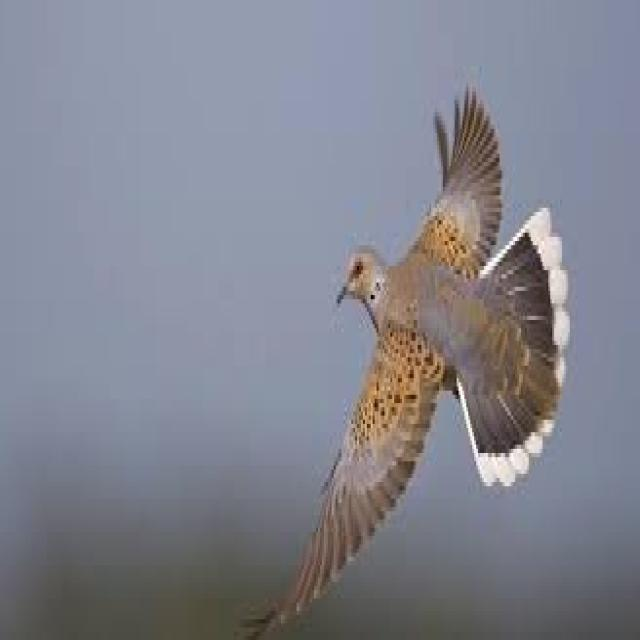pigeon: (243, 68, 578, 640)
